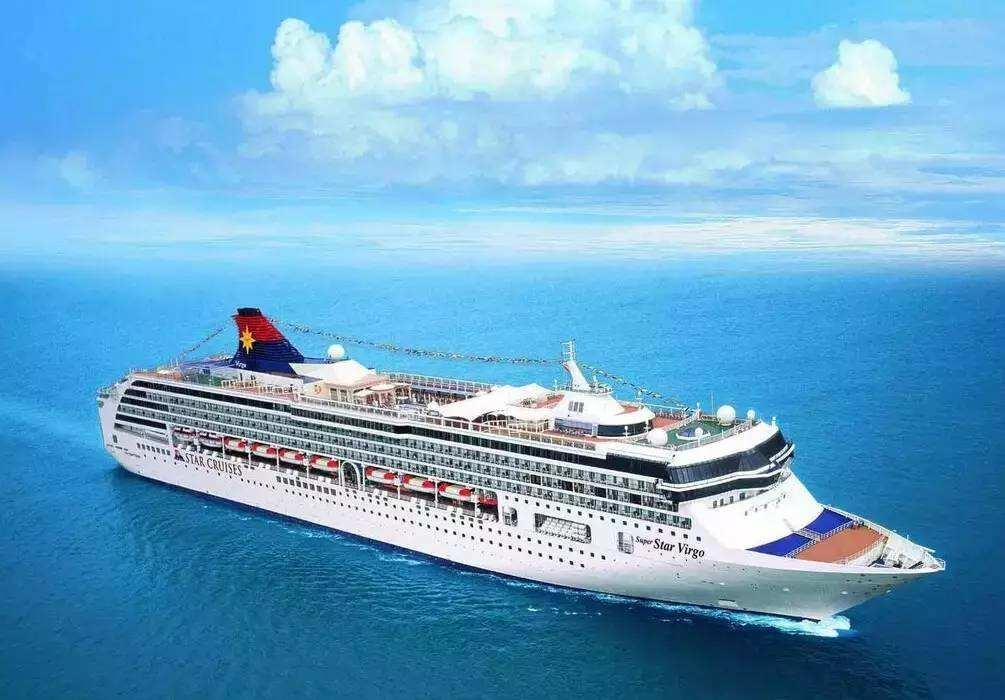youlun: (94, 298, 953, 626)
